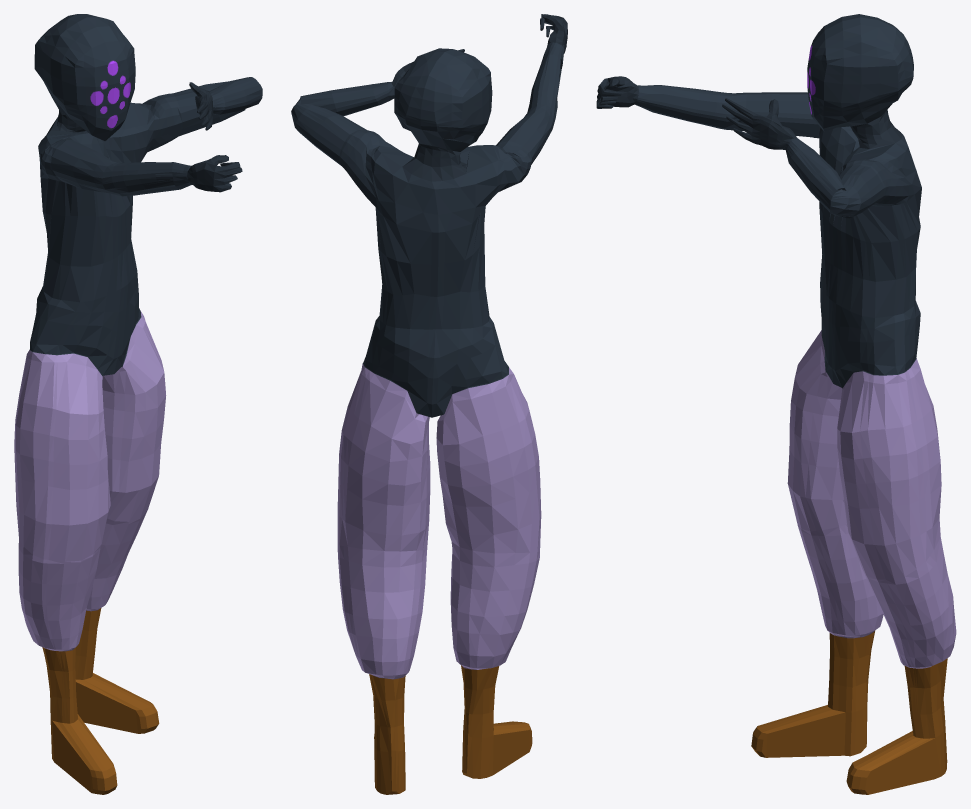
The model's file is Oracle_Attack_000027.obj.
3 renders of one model, left to right at view 1: azimuth 30°, elevation 25°; view 2: azimuth 150°, elevation 25°; view 3: azimuth 270°, elevation 25°, orthographic. The views are drawn at different scales.
Visible parts, largest first — view 1: Cube; view 2: Cube; view 3: Cube.
Boxes of the visible parts, x1,y1,x2,y2 form: Cube: [14, 14, 262, 794]; Cube: [291, 14, 567, 794]; Cube: [596, 14, 956, 794].
Size of the model in its own units: 1.36 by 3.94 by 1.71.
